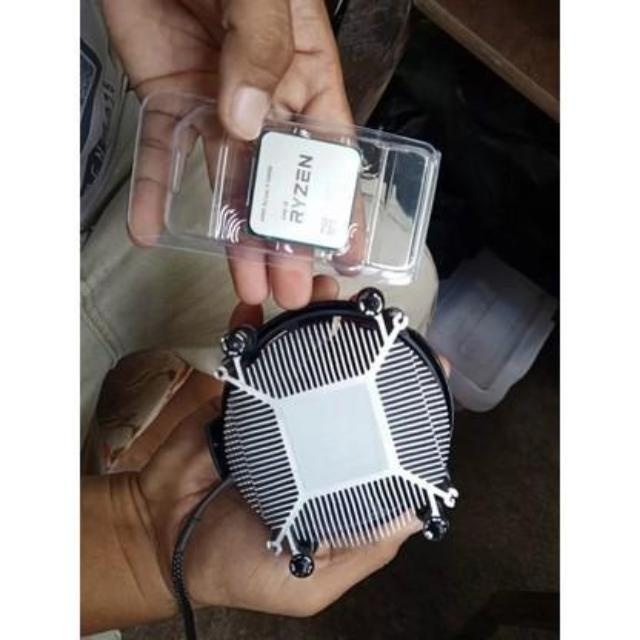CPU: (242, 128, 360, 252)
CPU_Fan: (214, 298, 462, 576)
